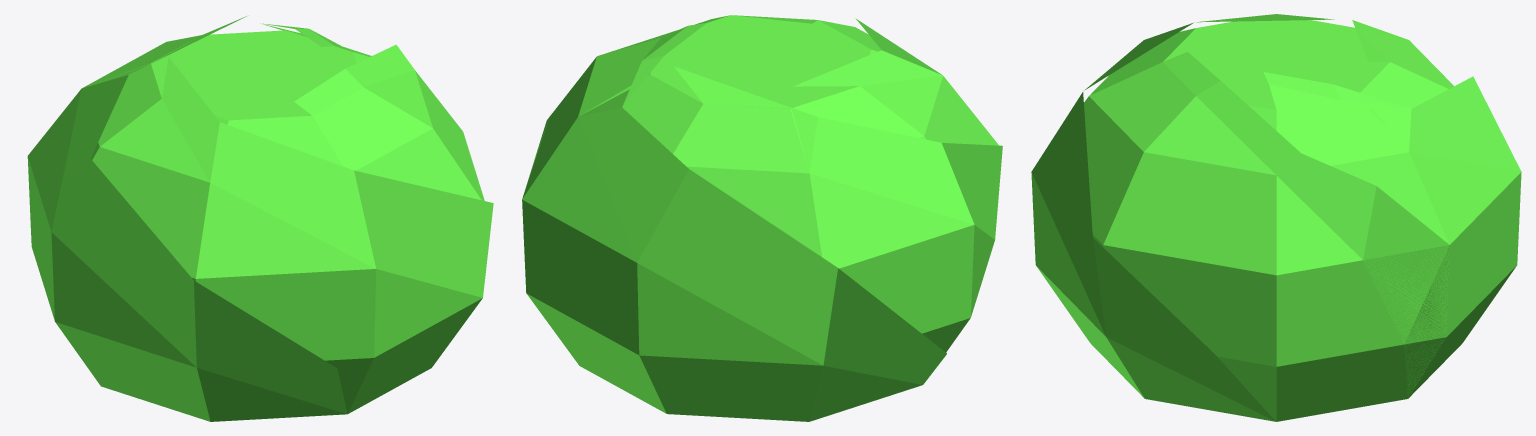
The model's file is cabbage01.gltf.
3 views of the same model, side by side, from view 1: azimuth 30°, elevation 25°; view 2: azimuth 150°, elevation 25°; view 3: azimuth 270°, elevation 25° (orthographic). The views are drawn at different scales.
Visible parts, largest first — view 1: Cylinder; view 2: Cylinder; view 3: Cylinder.
Boxes of the visible parts, x1,y1,x2,y2 form: Cylinder: [27, 16, 493, 421]; Cylinder: [522, 15, 1002, 421]; Cylinder: [1031, 14, 1521, 421].
Size of the model in its own units: 0.1858 by 0.1441 by 0.1858.
1 material, 1 textured.
